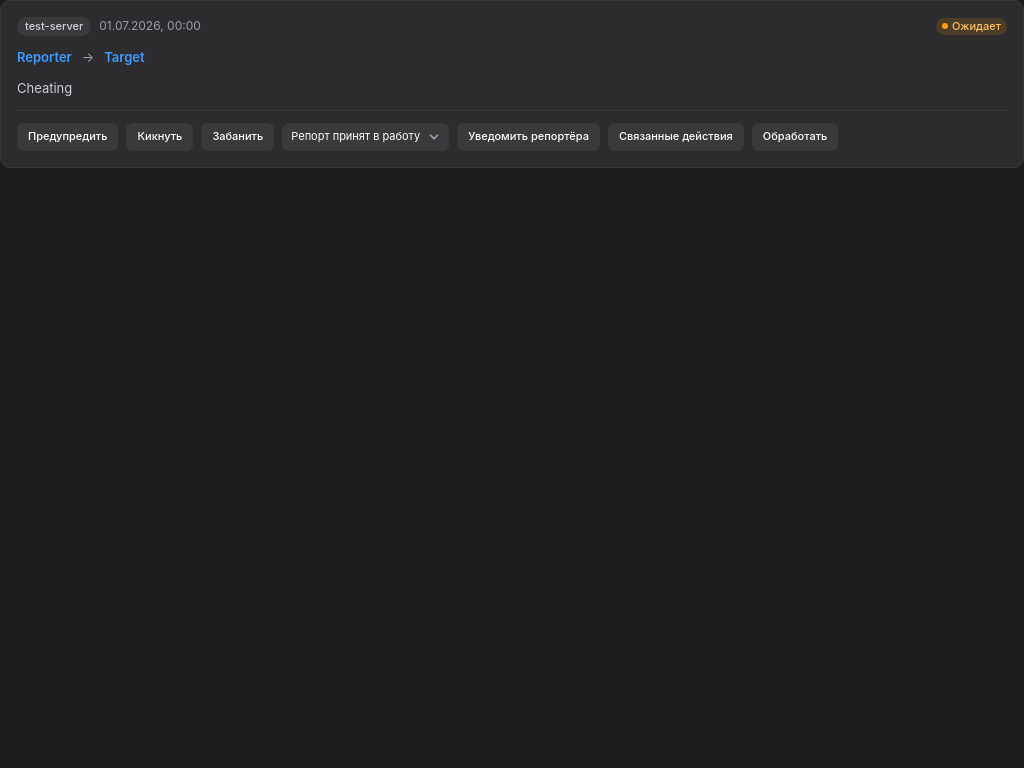
Test: ReportCard › keeps the action modal open and shows the API code when the action is refused
The width and height of the screenshot is (1024, 768).
Click the button "Кикнуть": click(160, 136) [126,122,193,150]
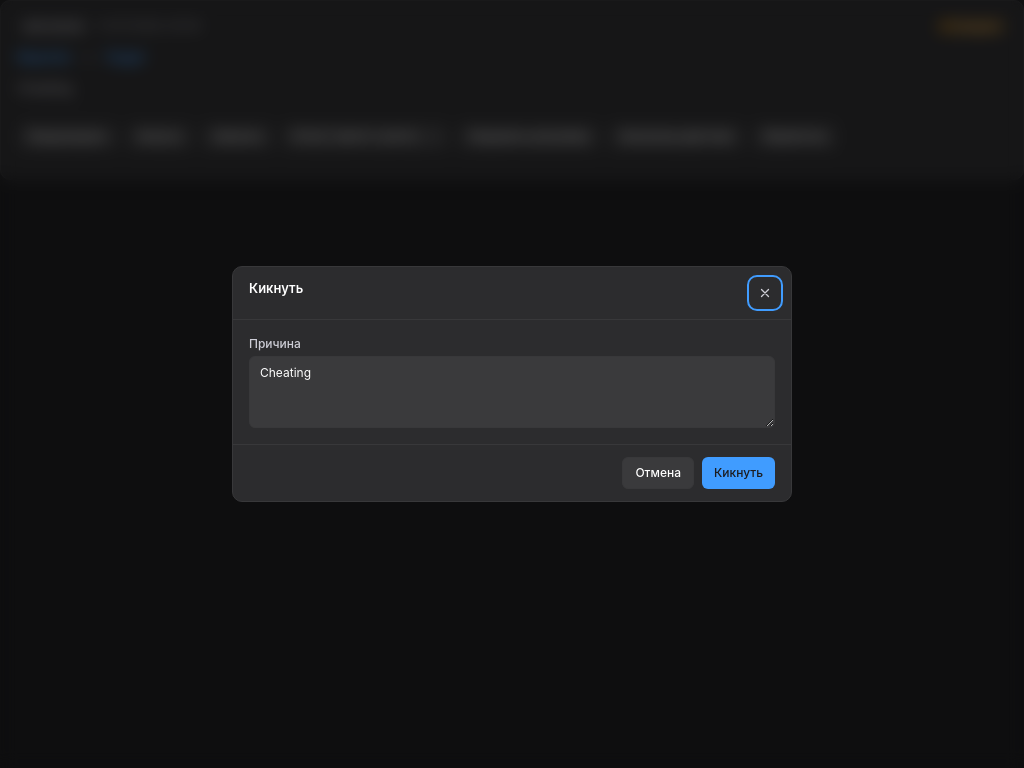
Click the button "Кикнуть": click(738, 473) [702,457,775,489]
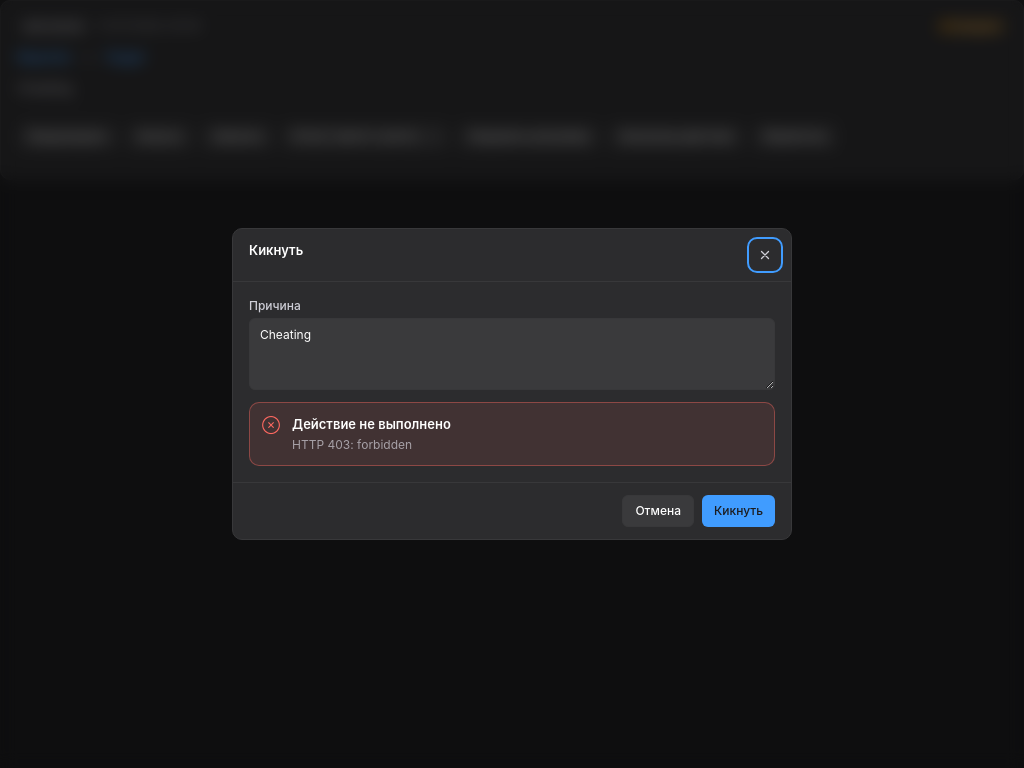
Now the text "HTTP 403: forbidden" is shown, box [292,437,412,452]
Now the text "Действие не выполнено" is shown, box [292,416,451,432]
